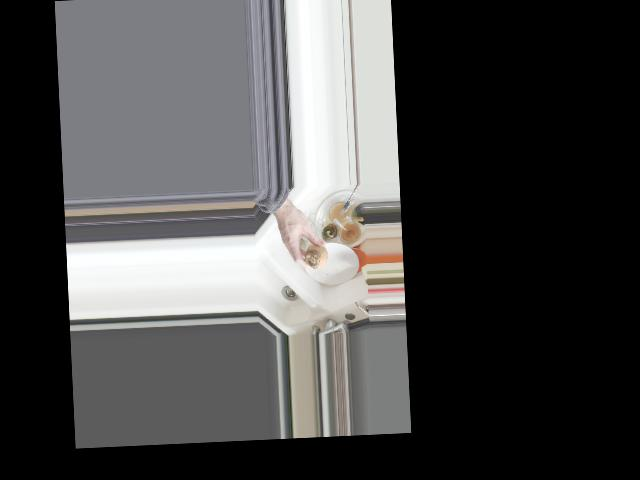sweet_potato: (303, 238, 329, 270)
